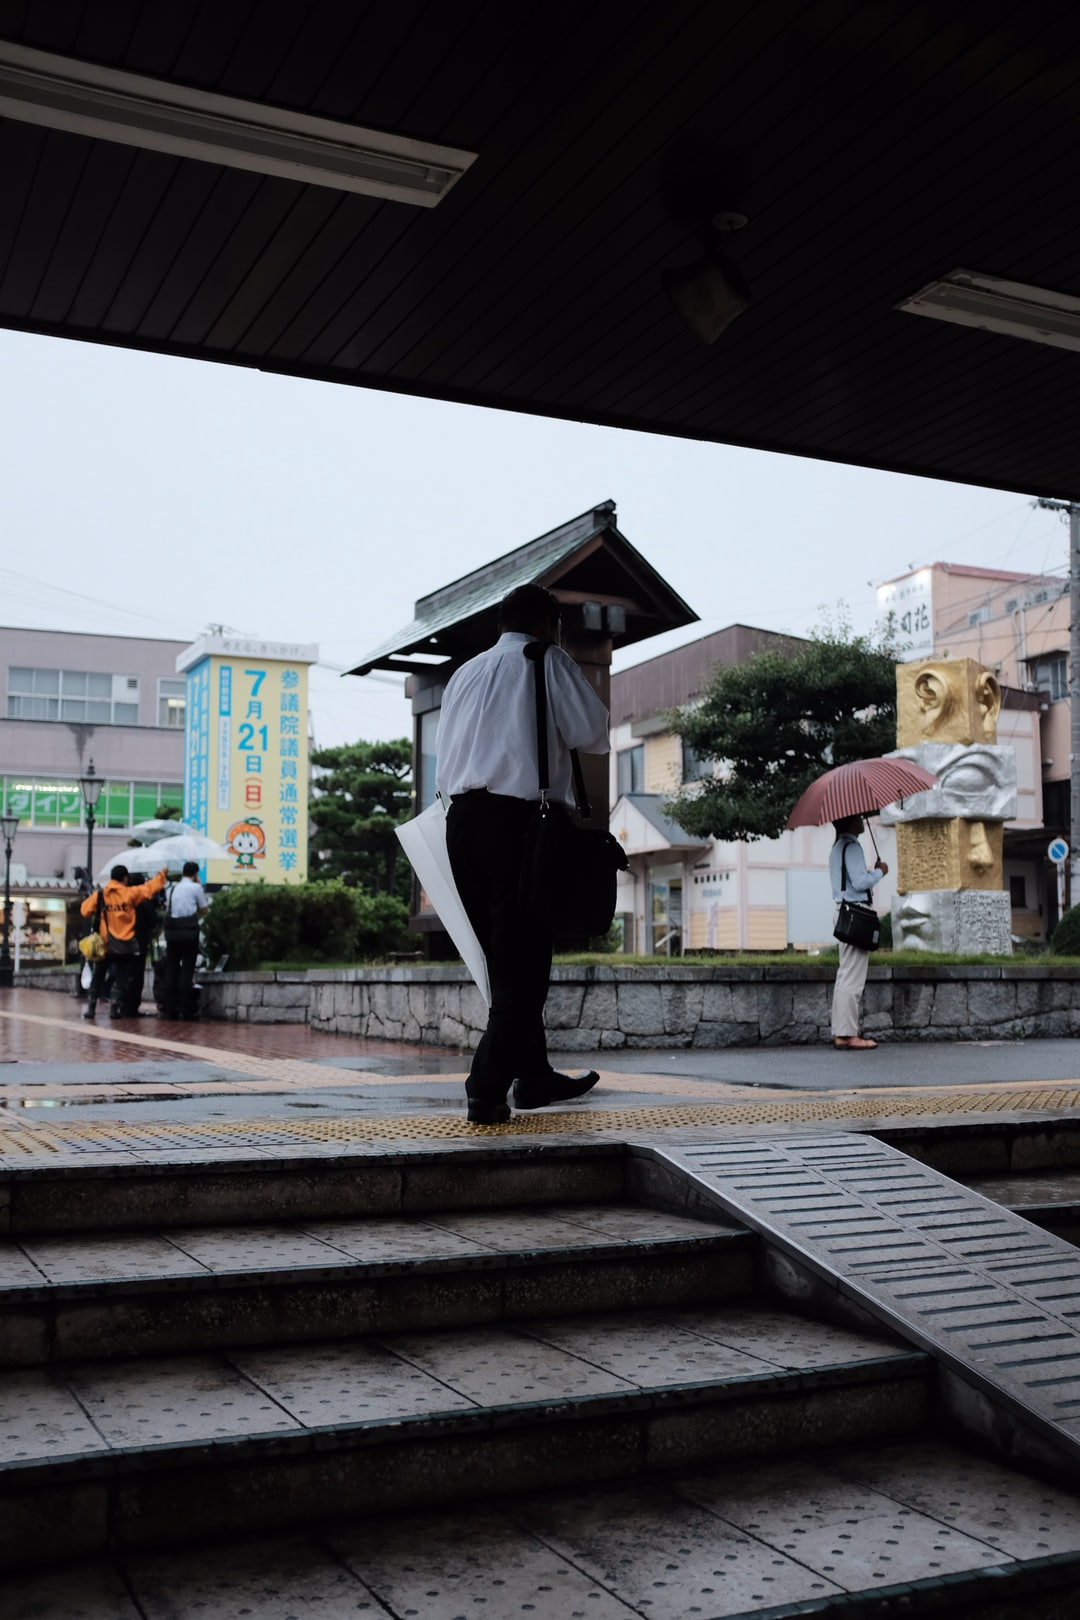person: (391, 589, 619, 1136), (796, 749, 910, 1047), (91, 861, 140, 1049), (166, 861, 212, 1031)
